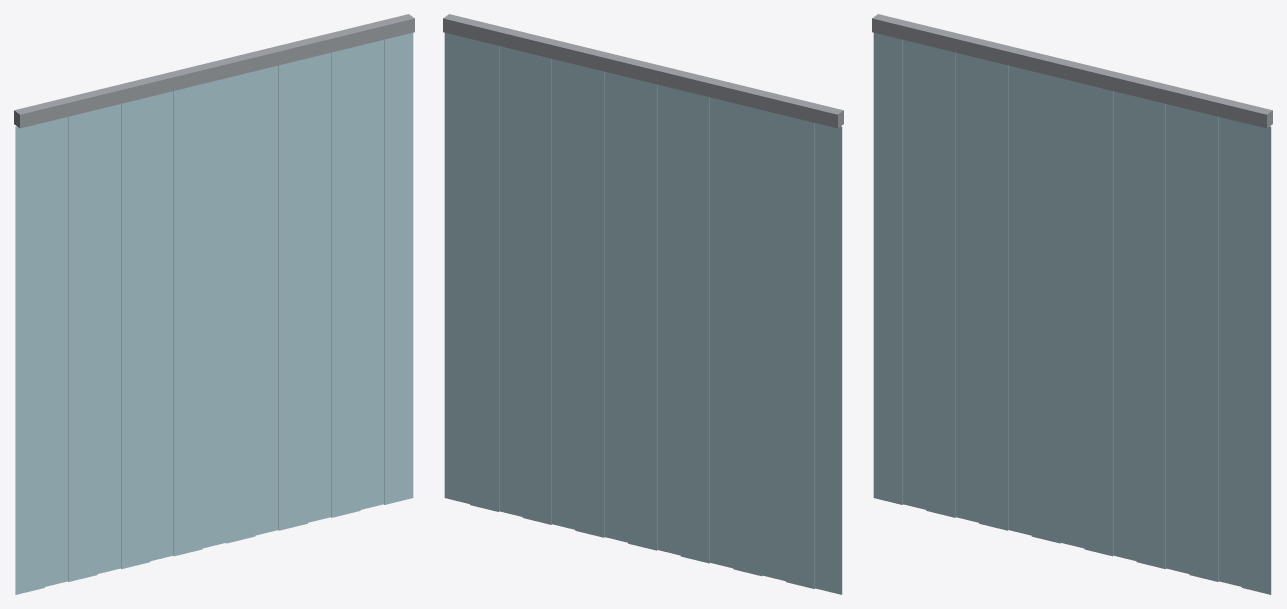
The model's file is industrial.depot.strip_curtain.glb.
3 renders of one model, left to right at view 1: azimuth 30°, elevation 25°; view 2: azimuth 150°, elevation 25°; view 3: azimuth 330°, elevation 25°, orthographic.
Visible parts, largest first — view 1: main__glass, main__steel_galvanised; view 2: main__glass, main__steel_galvanised; view 3: main__glass, main__steel_galvanised.
Boxes of the visible parts, box(x1,y1,x2,y2) form: main__glass: box(15, 32, 413, 594); main__steel_galvanised: box(14, 14, 414, 128); main__glass: box(444, 32, 842, 594); main__steel_galvanised: box(443, 14, 843, 128); main__glass: box(873, 32, 1271, 594); main__steel_galvanised: box(872, 14, 1272, 128).
Size of the model in its own units: 3.02 by 3.5 by 0.08.
